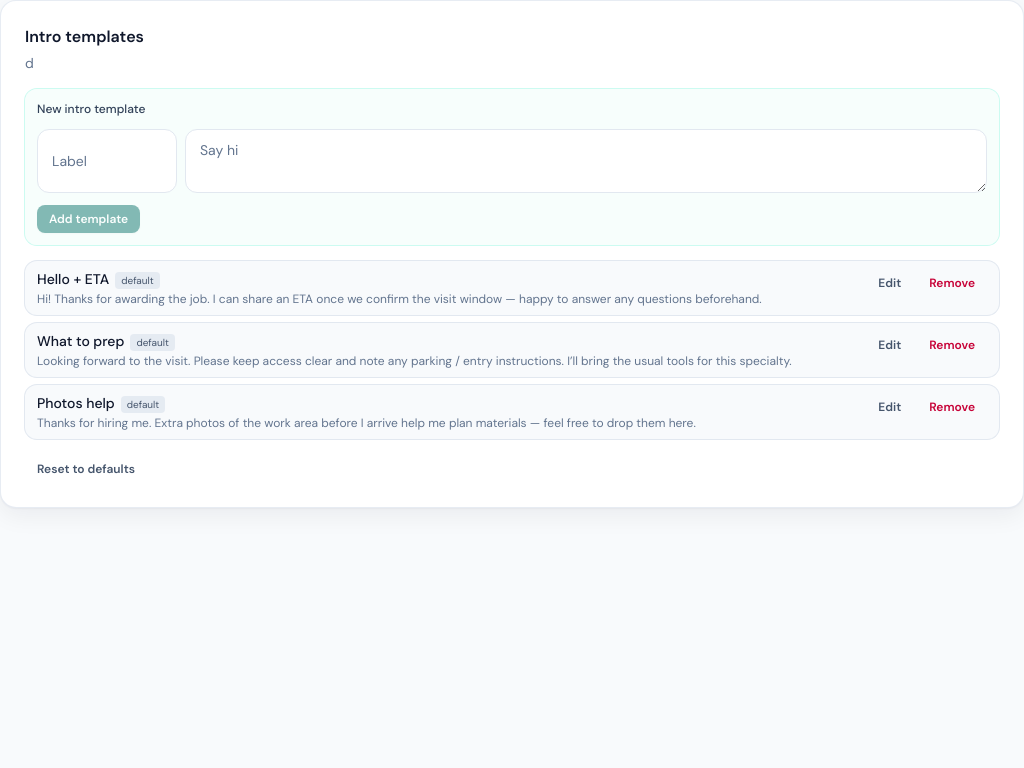
Test: TemplateEditor › keeps the list unchanged and reports the error when saving fails
Click the button "Remove" in the row of "Hello + ETA" at (952, 283), box [917, 269, 987, 297]
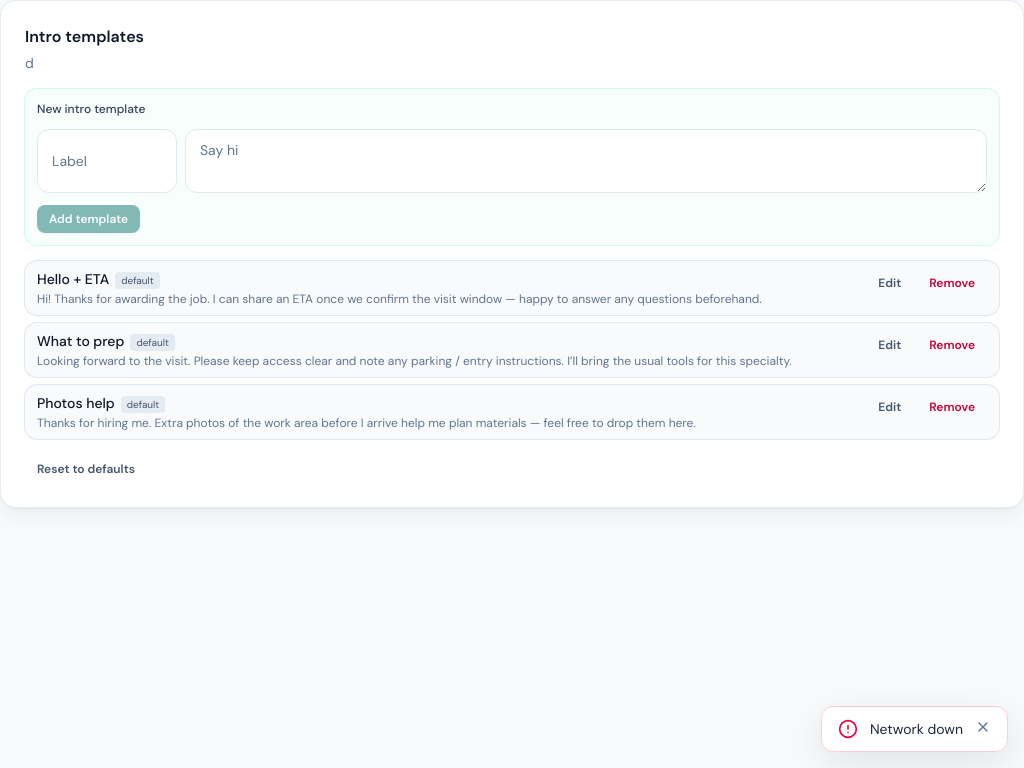
Expected: the number of list items is 3, [25, 261, 999, 315]; [25, 323, 999, 377]; [25, 385, 999, 439]
Now the text "Network down" is shown, box [870, 719, 963, 739]
